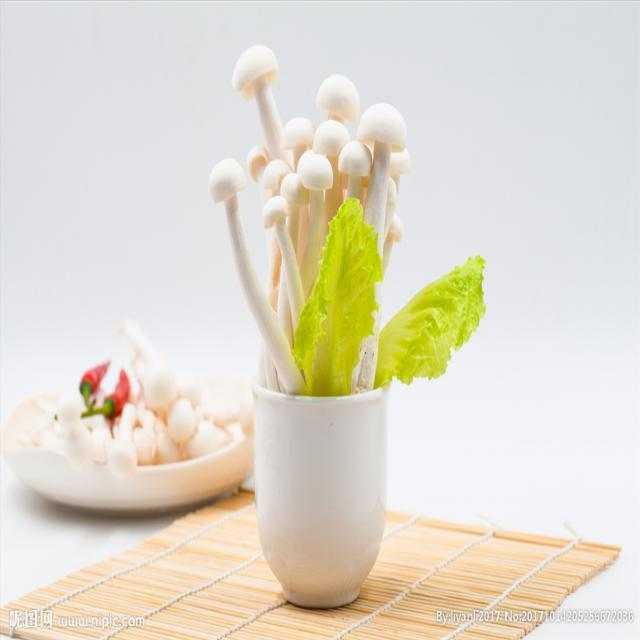Hypsizygus marmoreus: (210, 45, 408, 395)
